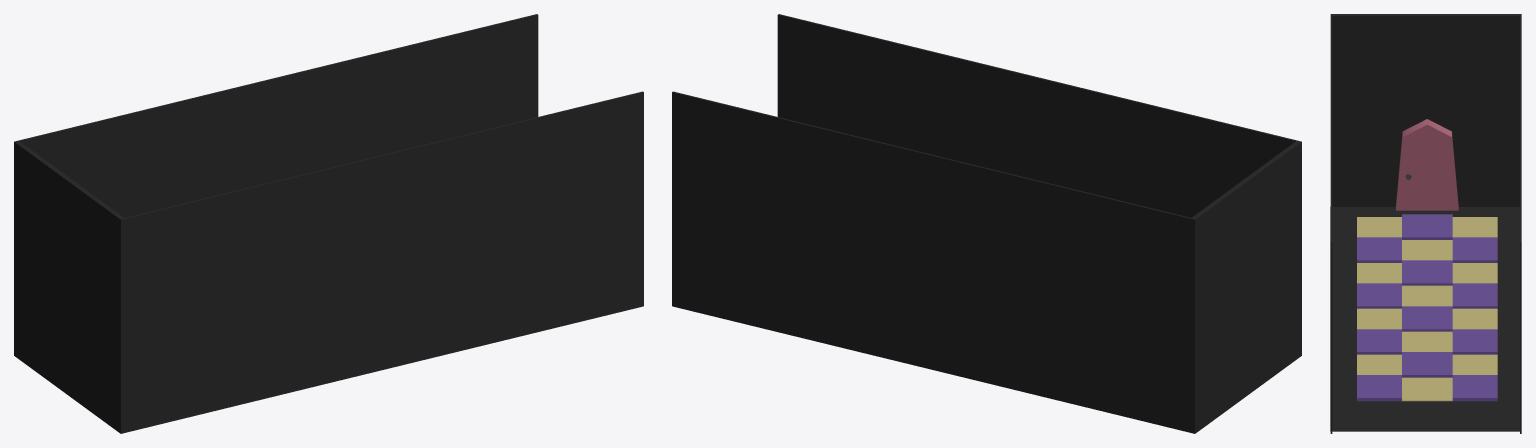
File: room2.fbx
The picture shows the model from 3 angles, left to right: view 1: azimuth 30°, elevation 25°; view 2: azimuth 150°, elevation 25°; view 3: azimuth 270°, elevation 25°; orthographic projection. The views are drawn at different scales.
Parts seen in each view (by area): view 1: walls_geo; view 2: walls_geo; view 3: walls_geo, tiles_geo, floor_geo, pasted__pCube8.
Part boxes in pixels (x1,y1,x2,y2): walls_geo: (14, 14, 643, 433); walls_geo: (672, 14, 1301, 433); walls_geo: (1330, 14, 1521, 433); tiles_geo: (1357, 214, 1497, 401); floor_geo: (1330, 207, 1519, 431); pasted__pCube8: (1396, 119, 1458, 210).
Bounding box in the file's own units: 9.57 × 3.77 × 3.39.
